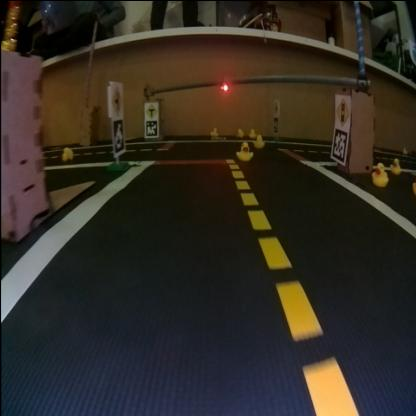Duckie: (372, 162, 388, 186), (236, 140, 252, 158), (390, 157, 401, 173), (62, 144, 74, 158), (254, 132, 264, 146), (210, 125, 218, 133), (237, 126, 243, 134), (249, 127, 254, 136)
Intersection sign: (110, 85, 122, 115), (145, 101, 158, 117)
QR code: (330, 130, 347, 162), (113, 118, 124, 154), (144, 119, 158, 136), (273, 115, 278, 133)
Signal sign: (335, 94, 351, 126)
Traffic light: (220, 80, 230, 90)
